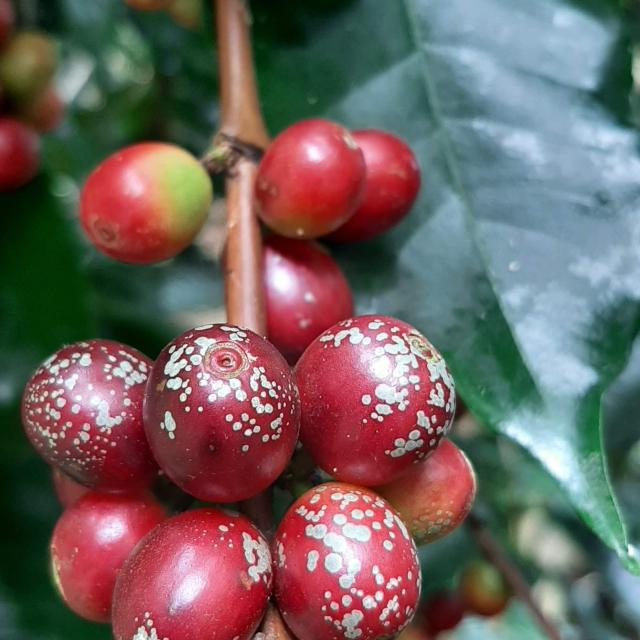red: (142, 324, 300, 503), (295, 316, 456, 486), (273, 483, 422, 640), (20, 340, 157, 494), (111, 510, 272, 640), (49, 492, 169, 624), (263, 235, 354, 365), (327, 129, 422, 242)
yellow: (78, 141, 212, 264), (255, 118, 366, 239), (373, 439, 476, 546)
